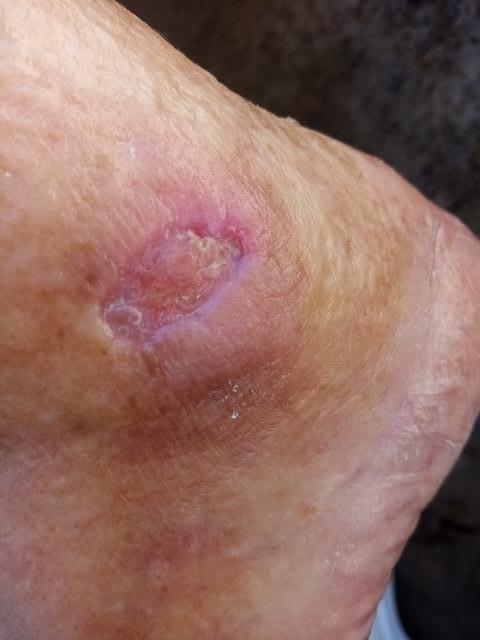wound: (94, 215, 253, 346)
